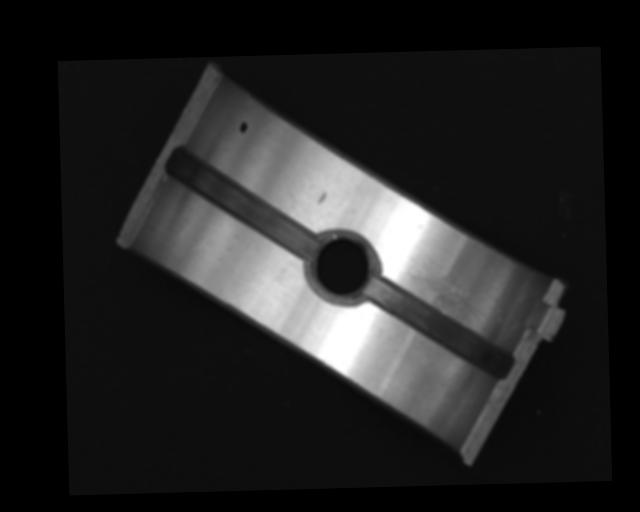blot: (239, 121, 248, 135)
bruise: (317, 192, 328, 205)
gap: (171, 145, 314, 262), (366, 274, 511, 385)
hole: (305, 229, 378, 306)
scratch: (402, 266, 486, 328)
